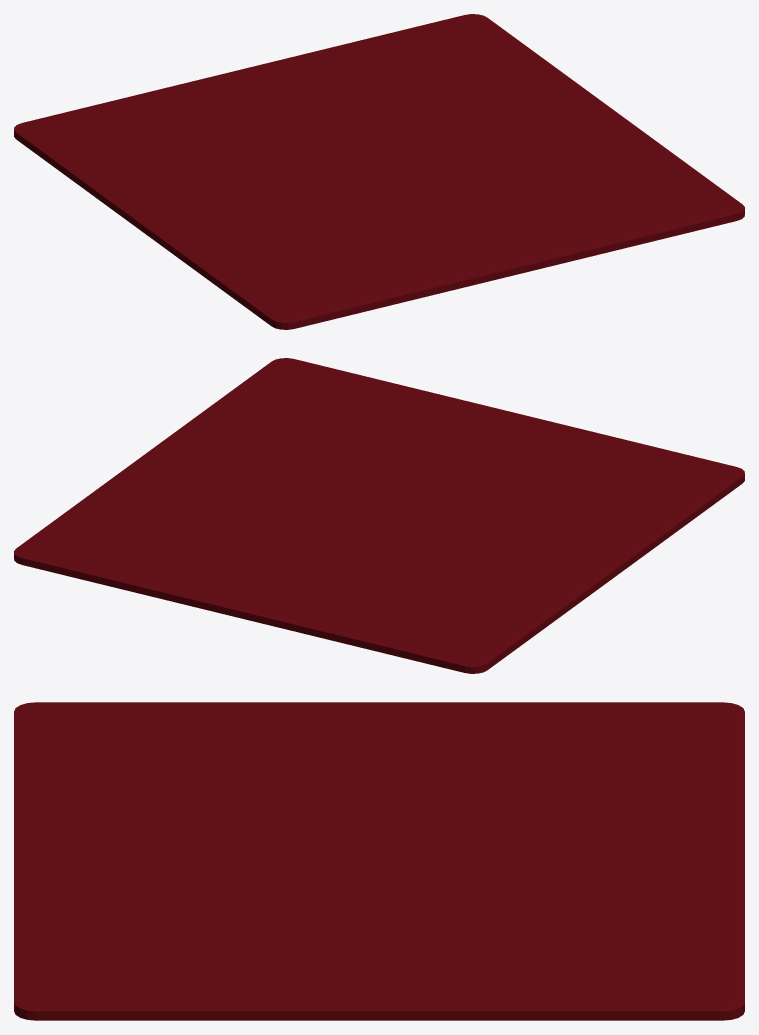
Rendered from carpet.glb.
3 renders of one model, top to bottom at view 1: azimuth 30°, elevation 25°; view 2: azimuth 150°, elevation 25°; view 3: azimuth 270°, elevation 25°, orthographic. The views are drawn at different scales.
Parts seen in each view (by area): view 1: Cube; view 2: Cube; view 3: Cube.
Part boxes in pixels (x1,y1,x2,y2): Cube: (14,14,744,329); Cube: (14,358,744,673); Cube: (14,702,744,1020).
Bounding box in the file's own units: 4 × 0.06 × 4.
